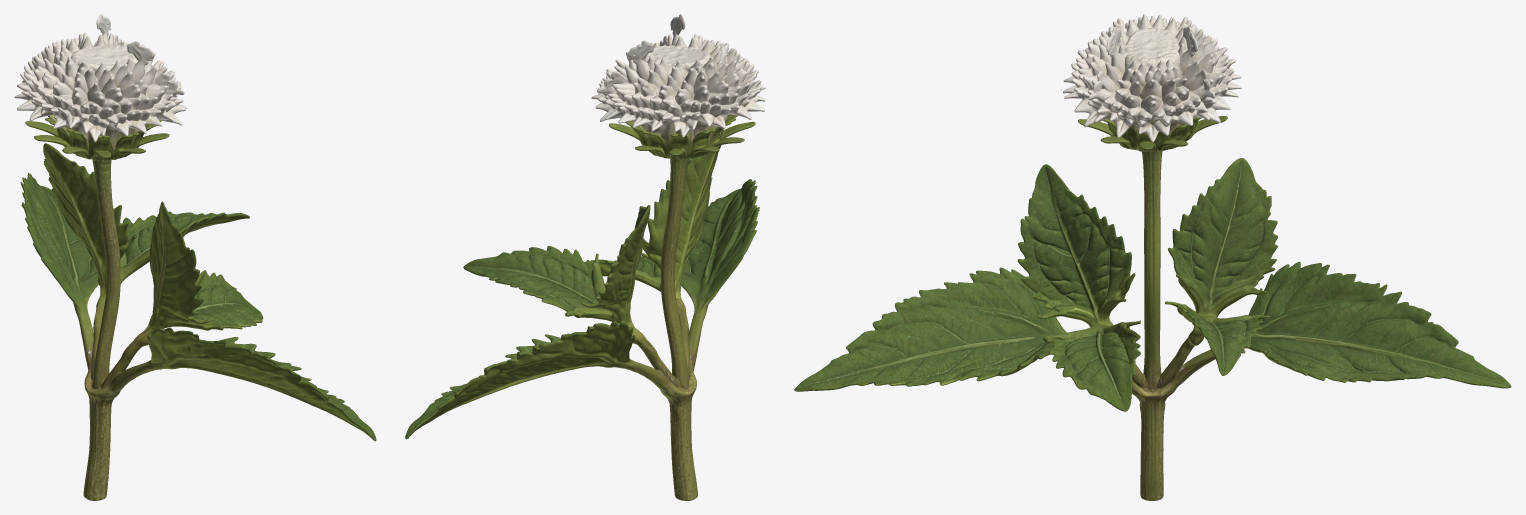
The model's file is melanthera_nivea.fbx.
3 views of the same model, side by side, from view 1: azimuth 30°, elevation 25°; view 2: azimuth 150°, elevation 25°; view 3: azimuth 270°, elevation 25° (orthographic). The views are drawn at different scales.
Parts seen in each view (by area): view 1: tripo_node_62149a7d; view 2: tripo_node_62149a7d; view 3: tripo_node_62149a7d.
Part boxes in pixels (<box>): tripo_node_62149a7d: <box>14,14,376,500</box>; tripo_node_62149a7d: <box>405,14,765,500</box>; tripo_node_62149a7d: <box>794,14,1511,500</box>.
Bounding box in the file's own units: 42.75 × 72.85 × 98.07.
Materials: 1 (1 with a texture image).
